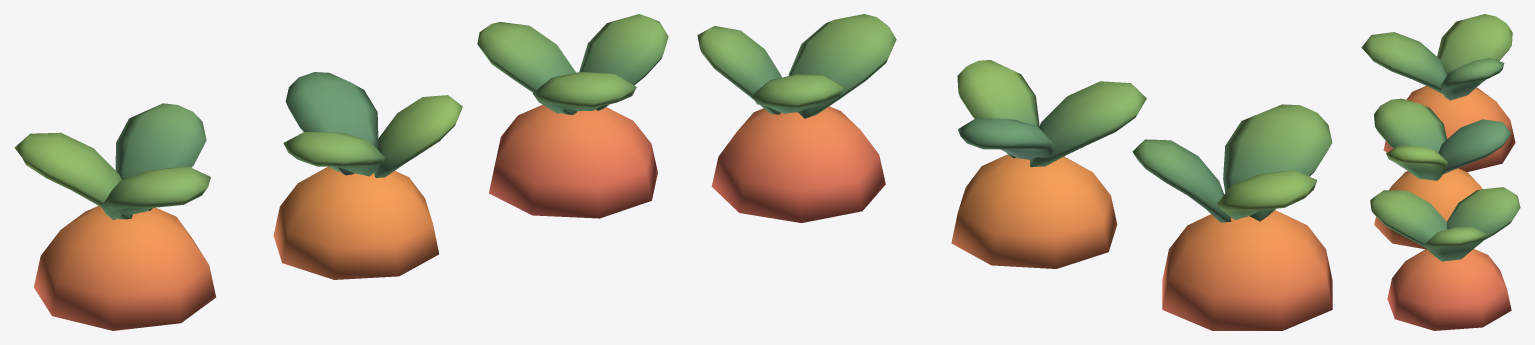
Rendered from FarmCarrot_Line.fbx.
3 renders of one model, left to right at view 1: azimuth 30°, elevation 25°; view 2: azimuth 150°, elevation 25°; view 3: azimuth 270°, elevation 25°, orthographic. The views are drawn at different scales.
Visible parts, largest first — view 1: FarmCarrot_Line; view 2: FarmCarrot_Line; view 3: FarmCarrot_Line.
Part boxes in pixels (bbox=[...]): FarmCarrot_Line: bbox=[14, 14, 668, 330]; FarmCarrot_Line: bbox=[697, 14, 1332, 330]; FarmCarrot_Line: bbox=[1361, 14, 1520, 330].
Size of the model in its own units: 6.29 by 1.46 by 1.92.
